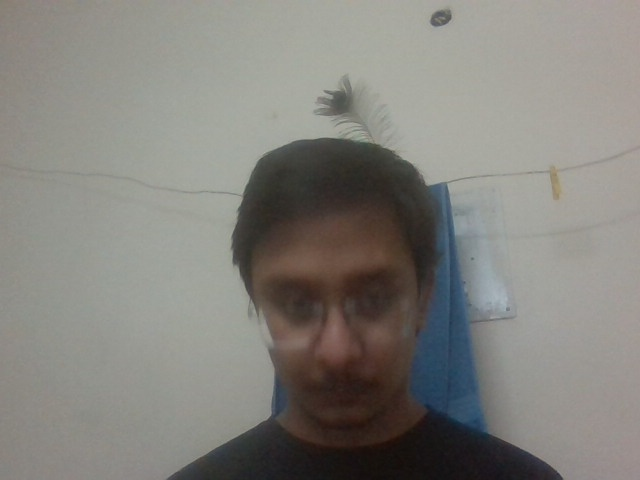real: (228, 127, 460, 437)
